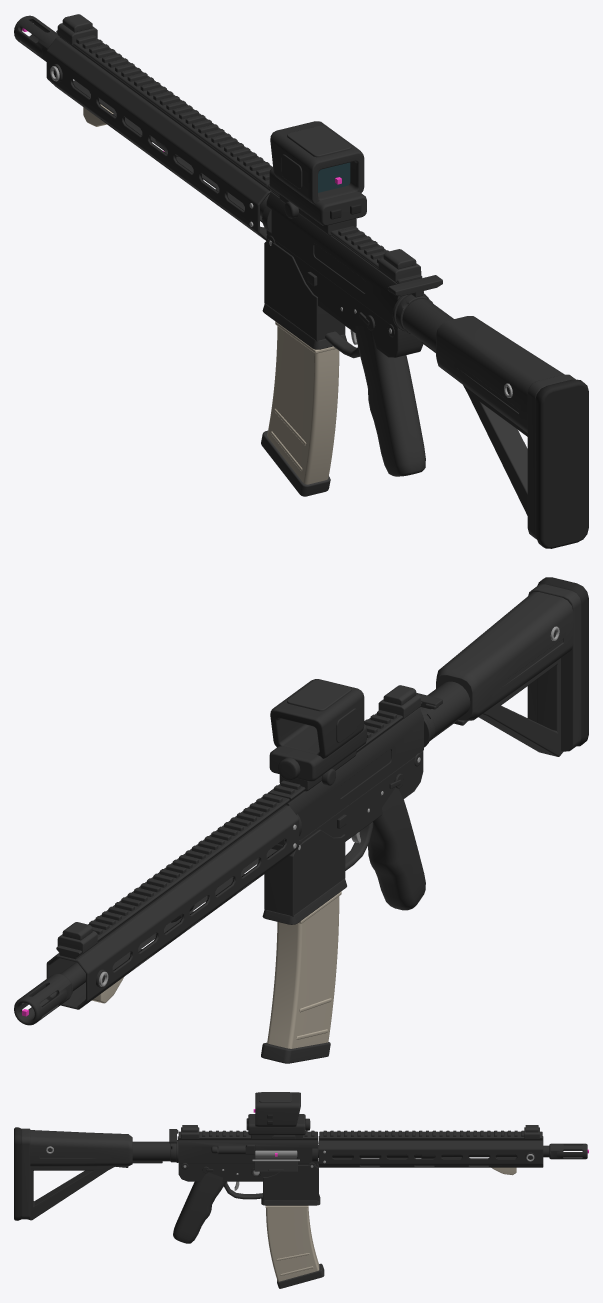
The picture shows the model from 3 angles, top to bottom: view 1: azimuth 30°, elevation 25°; view 2: azimuth 150°, elevation 25°; view 3: azimuth 270°, elevation 25°; orthographic projection. The views are drawn at different scales.
Visible parts, largest first — view 1: Body_Metal, Body_Polymer, Mag, Body_Rubber, Body_Lens, ChargingHandle; view 2: Body_Metal, Body_Polymer, Mag, Body_Rubber; view 3: Body_Metal, Body_Polymer, Mag, Body_Rubber, Body_Steel.
Part boxes in pixels (bbox=[...]): Body_Metal: bbox=[14, 15, 453, 357]; Body_Polymer: bbox=[57, 14, 575, 539]; Mag: bbox=[261, 321, 339, 496]; Body_Rubber: bbox=[330, 203, 588, 548]; Body_Lens: bbox=[318, 162, 350, 192]; ChargingHandle: bbox=[387, 275, 442, 297]; Body_Metal: bbox=[14, 679, 470, 1025]; Body_Polymer: bbox=[57, 584, 581, 953]; Mag: bbox=[261, 891, 341, 1063]; Body_Rubber: bbox=[537, 577, 588, 746]; Body_Metal: bbox=[132, 1092, 587, 1205]; Body_Polymer: bbox=[21, 1092, 539, 1243]; Mag: bbox=[265, 1205, 324, 1288]; Body_Rubber: bbox=[14, 1114, 272, 1220]; Body_Steel: bbox=[46, 1141, 534, 1190].
Size of the model in its own units: 0.0519 by 0.3062 by 0.844.
